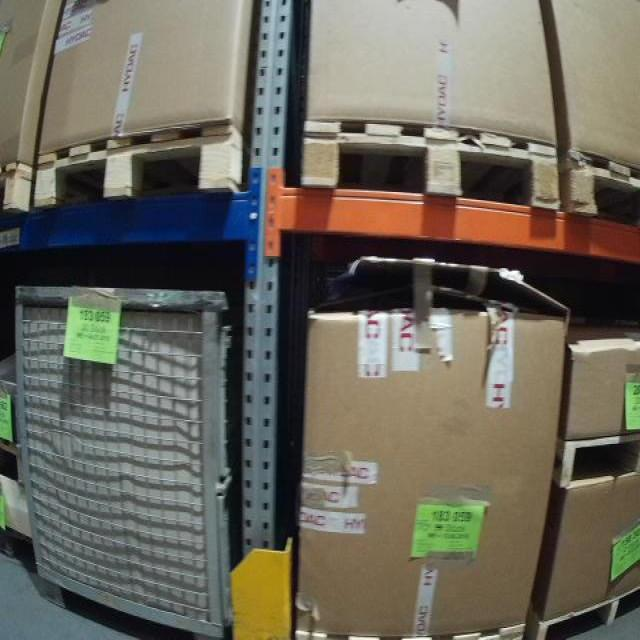pallet: (299, 122, 560, 212), (33, 119, 250, 212), (532, 586, 640, 640), (559, 150, 640, 219), (555, 438, 640, 490), (294, 621, 524, 640), (0, 155, 36, 211)
stillage: (11, 281, 239, 635)
